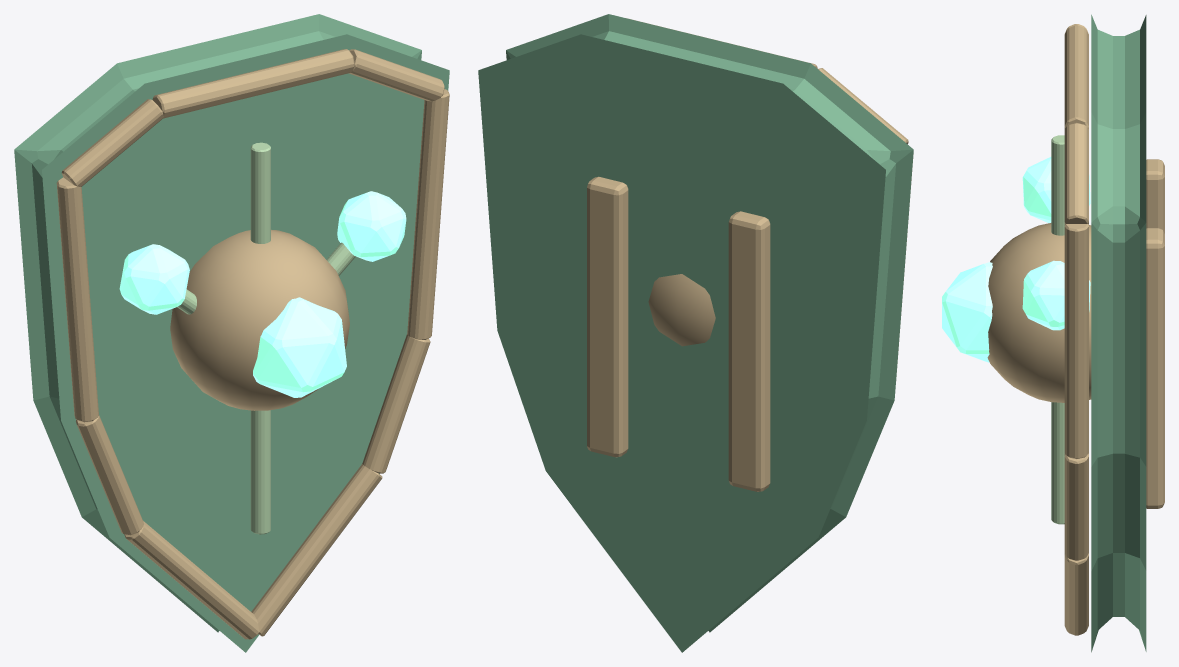
File: warrior-shield-04-verdant.glb
3 views of the same model, side by side, from view 1: azimuth 30°, elevation 25°; view 2: azimuth 150°, elevation 25°; view 3: azimuth 270°, elevation 25° (orthographic).
Visible parts, largest first — view 1: warrior-shield-04-verdant_ShieldBack, warrior-shield-04-verdant_BossBase, warrior-shield-04-verdant_BossGem, warrior-shield-04-verdant_RaisedRim_4, warrior-shield-04-verdant_RaisedRim_9, warrior-shield-04-verdant_RaisedRim_2, warrior-shield-04-verdant_RaisedRim_6, warrior-shield-04-verdant_VineCenter, warrior-shield-04-verdant_RaisedRim_7, warrior-shield-04-verdant_Leaf_-1, warrior-shield-04-verdant_Leaf_1, warrior-shield-04-verdant_RaisedRim_5 (+3 smaller); view 2: warrior-shield-04-verdant_ShieldBack, warrior-shield-04-verdant_BackStrap_-1, warrior-shield-04-verdant_BackStrap_1, warrior-shield-04-verdant_BossBase; view 3: warrior-shield-04-verdant_ShieldBack, warrior-shield-04-verdant_BossBase, warrior-shield-04-verdant_RaisedRim_4, warrior-shield-04-verdant_BackStrap_1, warrior-shield-04-verdant_BossGem, warrior-shield-04-verdant_VineCenter, warrior-shield-04-verdant_RaisedRim_5, warrior-shield-04-verdant_Leaf_1, warrior-shield-04-verdant_RaisedRim_3, warrior-shield-04-verdant_RaisedRim_2, warrior-shield-04-verdant_RaisedRim_6, warrior-shield-04-verdant_Leaf_-1 (+1 smaller).
Part boxes in pixels (x1,y1,x2,y2): warrior-shield-04-verdant_ShieldBack: [14, 14, 449, 652]; warrior-shield-04-verdant_BossBase: [170, 229, 349, 410]; warrior-shield-04-verdant_BossGem: [253, 297, 346, 397]; warrior-shield-04-verdant_RaisedRim_4: [407, 89, 449, 339]; warrior-shield-04-verdant_RaisedRim_9: [56, 177, 98, 422]; warrior-shield-04-verdant_RaisedRim_2: [152, 49, 354, 118]; warrior-shield-04-verdant_RaisedRim_6: [251, 464, 382, 636]; warrior-shield-04-verdant_VineCenter: [250, 142, 270, 534]; warrior-shield-04-verdant_RaisedRim_7: [124, 521, 259, 639]; warrior-shield-04-verdant_Leaf_-1: [119, 244, 189, 314]; warrior-shield-04-verdant_Leaf_1: [337, 191, 406, 261]; warrior-shield-04-verdant_RaisedRim_5: [362, 333, 430, 473]; warrior-shield-04-verdant_ShieldBack: [478, 14, 913, 652]; warrior-shield-04-verdant_BackStrap_-1: [728, 211, 770, 491]; warrior-shield-04-verdant_BackStrap_1: [587, 176, 628, 457]; warrior-shield-04-verdant_BossBase: [648, 274, 715, 346]; warrior-shield-04-verdant_ShieldBack: [1091, 14, 1146, 652]; warrior-shield-04-verdant_BossBase: [987, 223, 1091, 402]; warrior-shield-04-verdant_RaisedRim_4: [1064, 224, 1088, 458]; warrior-shield-04-verdant_BackStrap_1: [1146, 228, 1164, 508]; warrior-shield-04-verdant_BossGem: [942, 262, 992, 362]; warrior-shield-04-verdant_VineCenter: [1051, 135, 1064, 524]; warrior-shield-04-verdant_RaisedRim_5: [1064, 453, 1088, 560]; warrior-shield-04-verdant_Leaf_1: [1022, 260, 1090, 330]; warrior-shield-04-verdant_RaisedRim_3: [1064, 123, 1088, 223]; warrior-shield-04-verdant_RaisedRim_2: [1064, 25, 1088, 128]; warrior-shield-04-verdant_RaisedRim_6: [1064, 553, 1088, 635]; warrior-shield-04-verdant_Leaf_-1: [1022, 157, 1090, 223].
Size of the model in its own units: 0.9774 by 1.36 by 0.4652.
